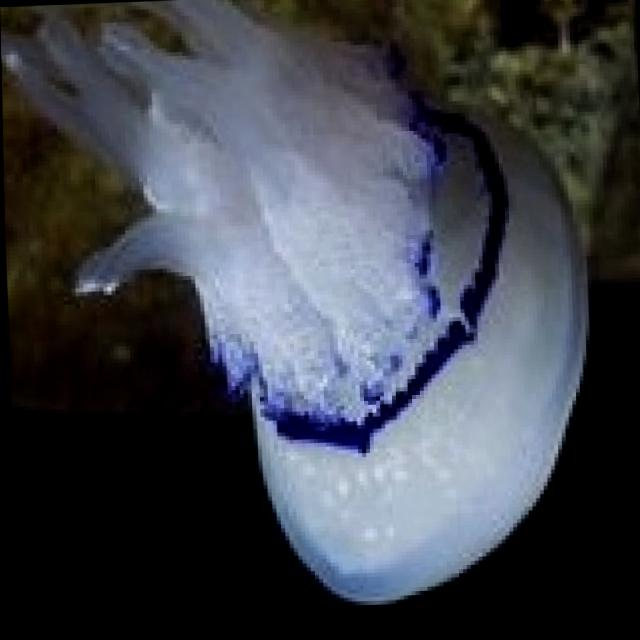Box-jellyfish: (0, 0, 604, 625)
